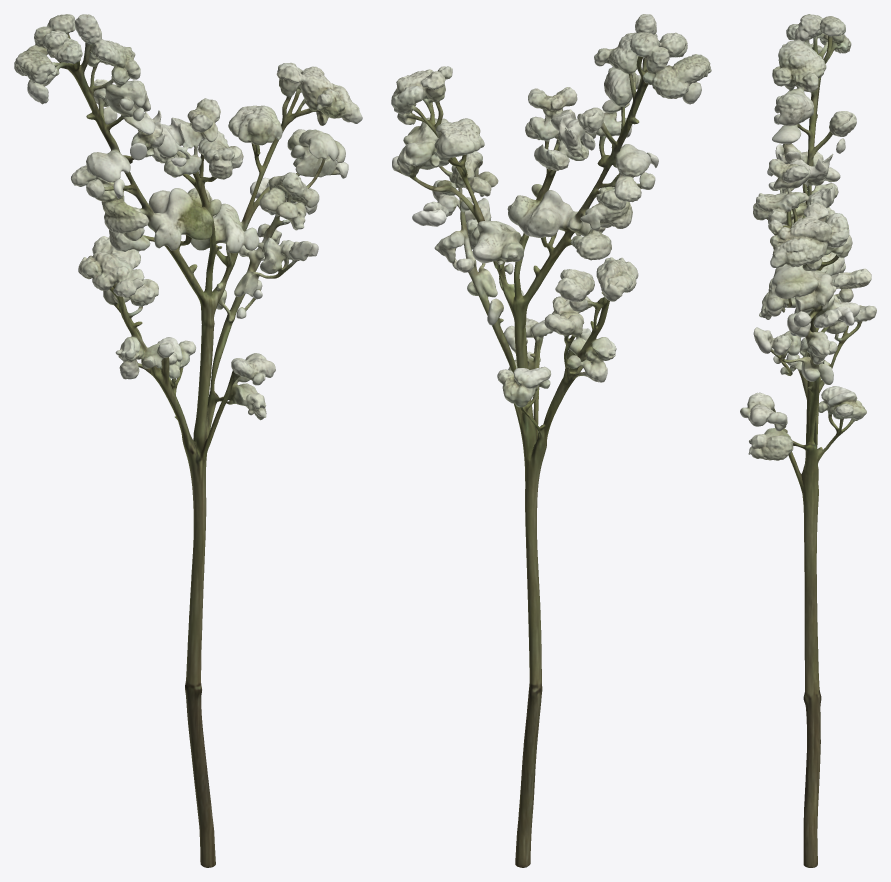
Rendered from white_pellers_pbr-v1.glb.
3 views of the same model, side by side, from view 1: azimuth 30°, elevation 25°; view 2: azimuth 150°, elevation 25°; view 3: azimuth 270°, elevation 25° (orthographic). The views are drawn at different scales.
Visible parts, largest first — view 1: model; view 2: model; view 3: model.
Boxes of the visible parts, x1,y1,x2,y2 form: model: (14, 14, 362, 867); model: (391, 14, 711, 867); model: (740, 14, 876, 867).
Size of the model in its own units: 0.7232 by 1.9 by 0.2966.
Materials: 1 (1 with a texture image).
